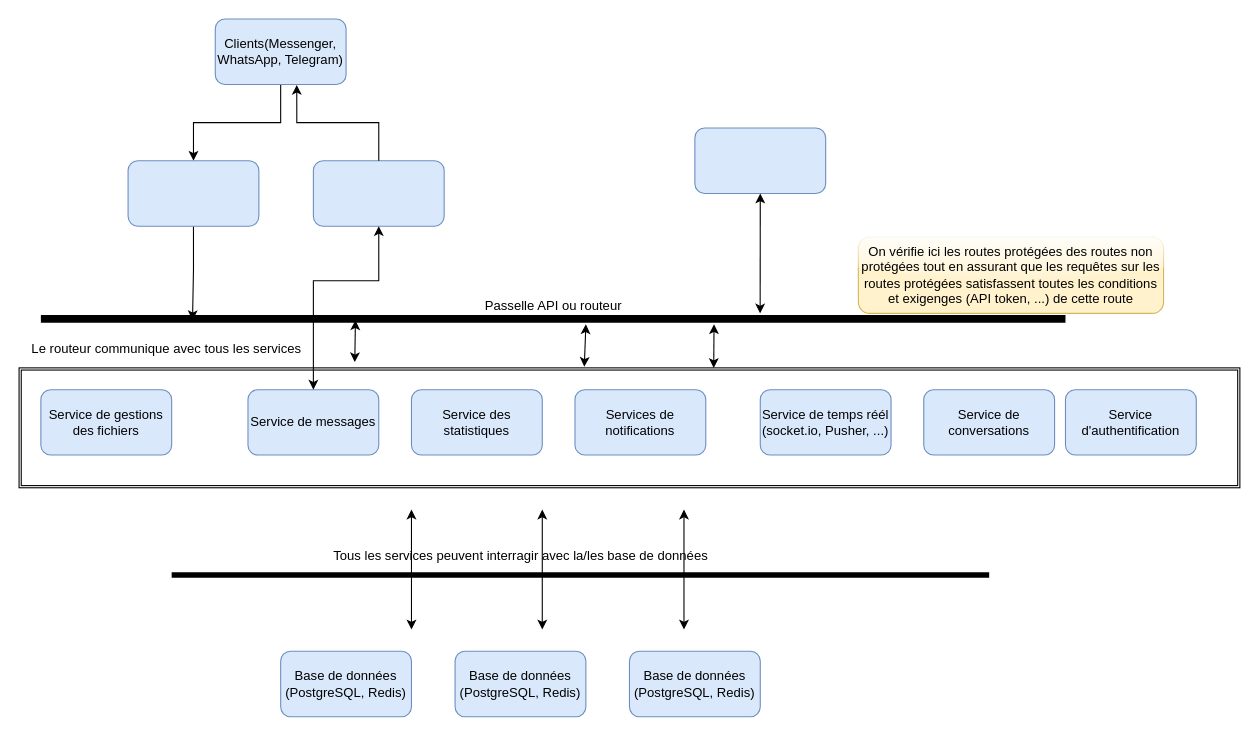
This 1259x736 diagram has some shape labels left out. The shapes that lost their labels are listed below. From the top down, each one's centre as x and y in pixels, then its label:
the point at 760,160: Plateforme utilisateur
the point at 193,193: Webhook
the point at 378,193: Requetes API vers client
